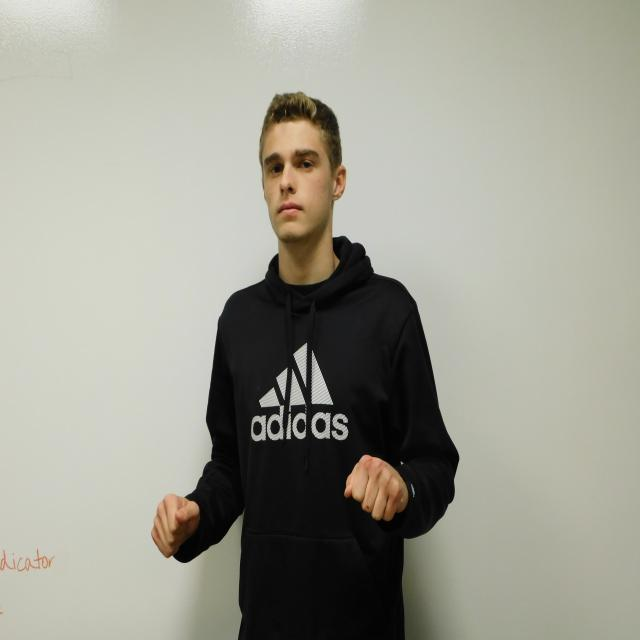can: (152, 454, 408, 559)
